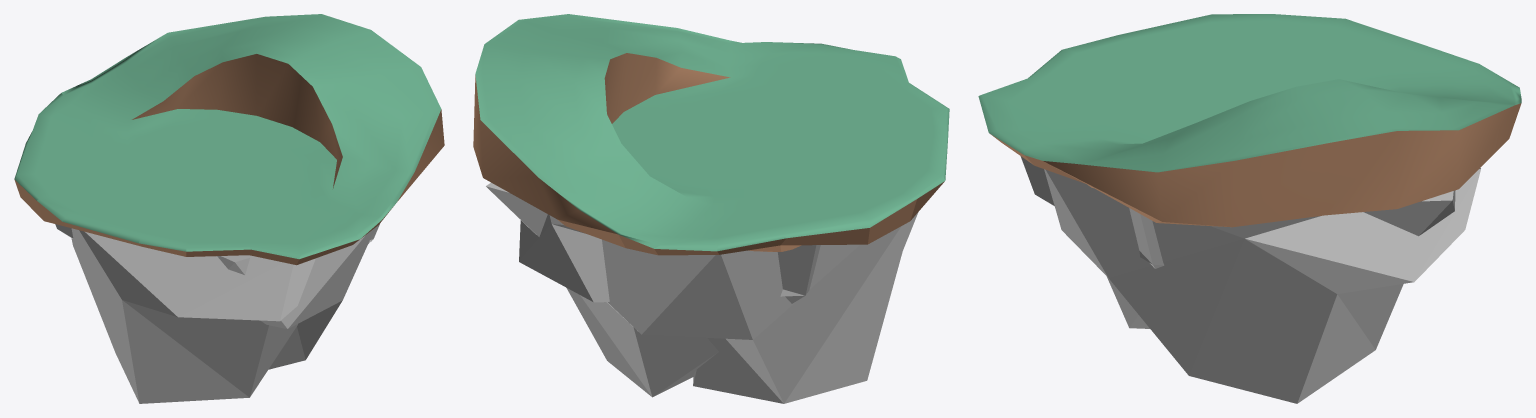
File: island3.fbx
3 views of the same model, side by side, from view 1: azimuth 30°, elevation 25°; view 2: azimuth 150°, elevation 25°; view 3: azimuth 270°, elevation 25° (orthographic). The views are drawn at different scales.
Visible parts, largest first — view 1: pCylinder1, rock_i, pasted__rock_i; view 2: pCylinder1, rock_i, pasted__rock_i; view 3: pCylinder1, pasted__rock_i, rock_i.
Boxes of the visible parts, x1,y1,x2,y2 form: pCylinder1: (14, 14, 444, 265); rock_i: (71, 224, 379, 403); pasted__rock_i: (55, 224, 375, 369); pCylinder1: (473, 14, 949, 255); rock_i: (486, 182, 918, 403); pasted__rock_i: (519, 214, 820, 397); pCylinder1: (978, 14, 1521, 227); pasted__rock_i: (1044, 168, 1480, 403); rock_i: (1020, 156, 1455, 328).
Bounding box in the file's own units: 29 × 19.9 × 31.
